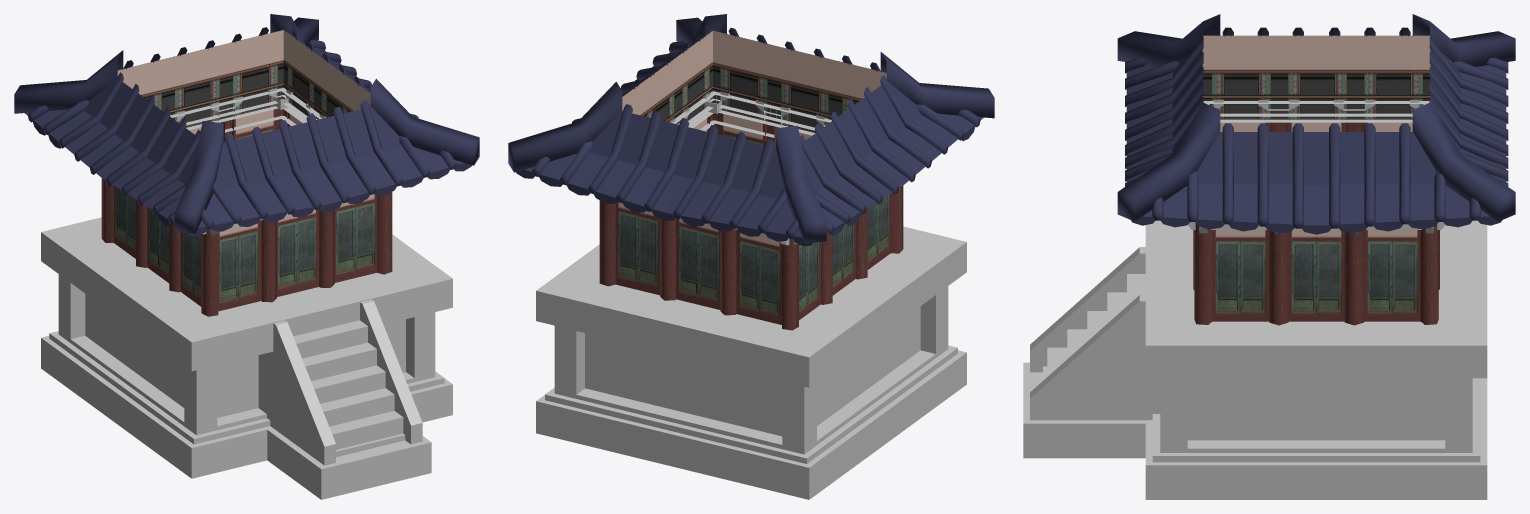
File: Building_Tower_Lower.fbx
3 views of the same model, side by side, from view 1: azimuth 30°, elevation 25°; view 2: azimuth 150°, elevation 25°; view 3: azimuth 270°, elevation 25° (orthographic). The views are drawn at different scales.
Parts seen in each view (by area): view 1: Cube.130, Cube.093, Cube.088, Cube.131, Cube.132, Cube.089, Cube.090, Cube.133, Cube.091, Cylinder.038, Cylinder.036, Cylinder.037 (+19 smaller); view 2: Cube.130, Cube.093, Cube.088, Cube.092, Cube.091, Cube.090, Cylinder.042, Cylinder.043, Cylinder.039, Cylinder.044, Cube.089, Circle.116 (+16 smaller); view 3: Cube.130, Cube.093, Cube.088, Cube.133, Cube.089, Cube.092, Cube.132, Cube.090, Cube.091, Cube.131, Cylinder.040, Cylinder.041 (+24 smaller).
Part boxes in pixels (<box>): Cube.130: <box>41,217,452,499</box>; Cube.093: <box>114,30,376,311</box>; Cube.088: <box>25,32,463,227</box>; Cube.131: <box>293,320,403,449</box>; Cube.132: <box>258,320,335,465</box>; Cube.089: <box>370,78,479,165</box>; Cube.090: <box>175,121,223,233</box>; Cube.133: <box>360,299,422,444</box>; Cube.091: <box>14,50,123,113</box>; Cylinder.038: <box>261,220,276,302</box>; Cylinder.036: <box>377,192,392,274</box>; Cylinder.037: <box>319,210,334,287</box>; Cube.130: <box>536,226,966,499</box>; Cube.093: <box>615,30,890,324</box>; Cube.088: <box>524,33,983,237</box>; Cube.092: <box>508,81,622,172</box>; Cube.091: <box>776,125,826,243</box>; Cube.090: <box>880,52,994,118</box>; Cylinder.042: <box>782,238,798,330</box>; Cylinder.043: <box>720,228,736,315</box>; Cylinder.039: <box>599,200,615,286</box>; Cylinder.044: <box>660,218,675,300</box>; Cube.089: <box>676,14,726,48</box>; Circle.116: <box>673,125,718,218</box>; Cube.130: <box>1023,220,1487,499</box>; Cube.093: <box>1202,35,1430,321</box>; Cube.088: <box>1126,48,1506,225</box>; Cube.133: <box>1030,295,1160,420</box>; Cube.089: <box>1117,102,1220,221</box>; Cube.092: <box>1412,103,1515,221</box>; Cube.132: <box>1030,247,1145,372</box>; Cube.090: <box>1117,14,1220,66</box>; Cube.091: <box>1412,14,1515,66</box>; Cube.131: <box>1047,274,1145,376</box>; Cylinder.040: <box>1344,230,1364,325</box>; Cylinder.041: <box>1269,230,1288,325</box>.
Size of the model in its own units: 210 by 213 by 259.
